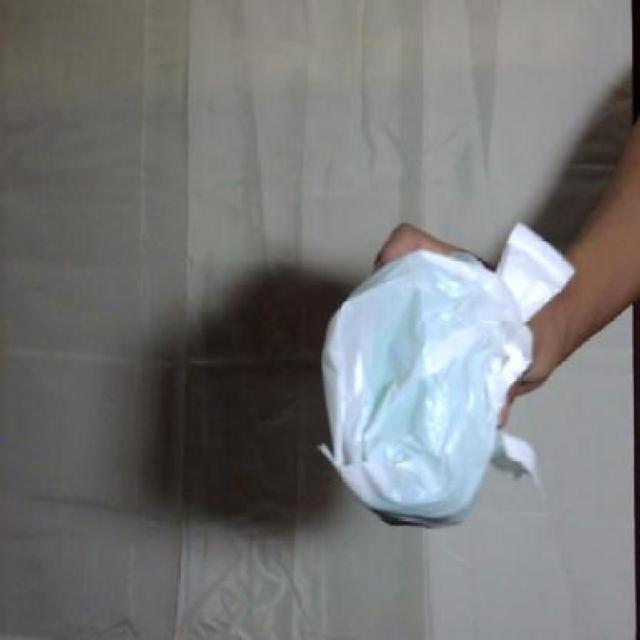Plastic: (317, 222, 576, 529)
